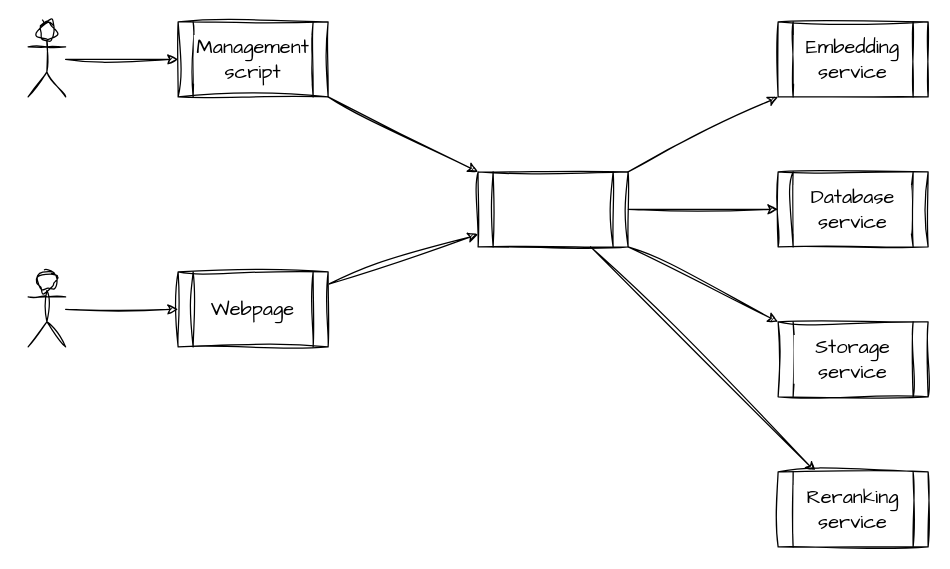
The diagram is 950 pixels wide and 569 high, and some of its shapes have lost their labels. Here are the shapes that lost their labels. From the top down, the centre of each, then its label:
At (46,59): "Admin".
At (552,209): "Orchestrator".
At (46,309): "User".
